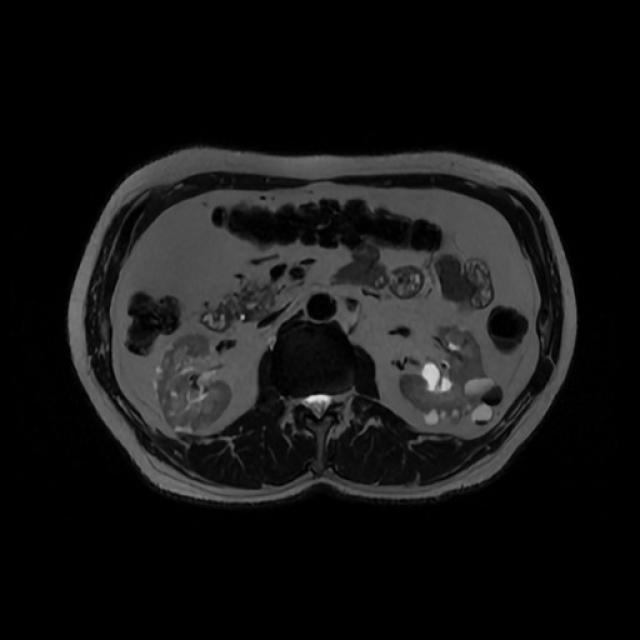sag: (155, 335, 232, 428)
sol: (399, 331, 502, 426)
